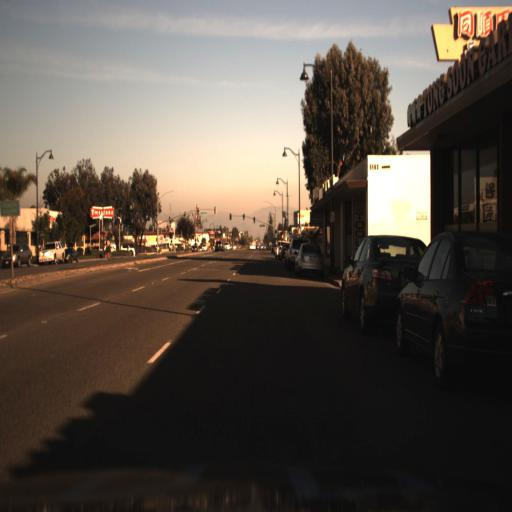car: (390, 232, 512, 393), (338, 233, 431, 342), (33, 236, 64, 268), (293, 241, 321, 273), (36, 238, 65, 262), (63, 246, 82, 266)
